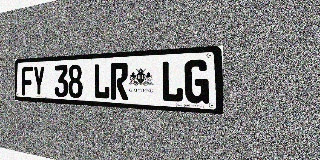3: (55, 65, 68, 97)
8: (68, 64, 83, 98)
F: (22, 66, 33, 96)
G: (184, 59, 209, 104)
L: (161, 60, 183, 103), (94, 63, 110, 99)
R: (110, 62, 128, 100)
Y: (33, 66, 45, 96)
